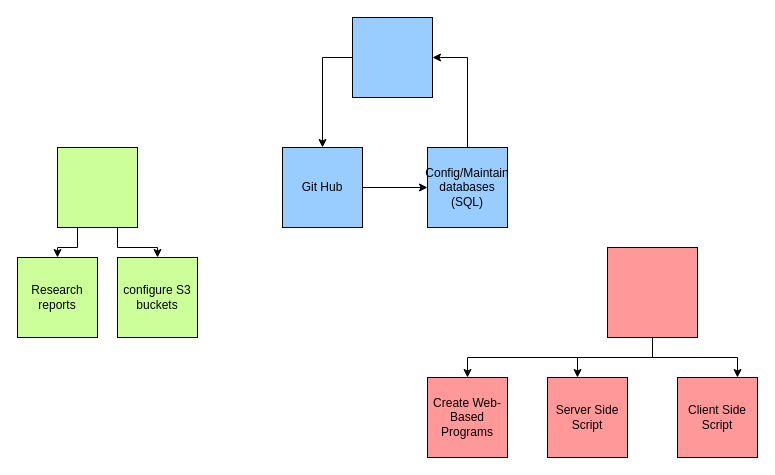
Some shapes in this 775 by 475 pixel diagram are drawn without their labels. Each missing label, with the centre of its shape:
AWS Modules: the point at 97,187
Intermediate obj orientated language (JavaScript): the point at 392,57
Web Pages (Front & Back End): the point at 652,292
